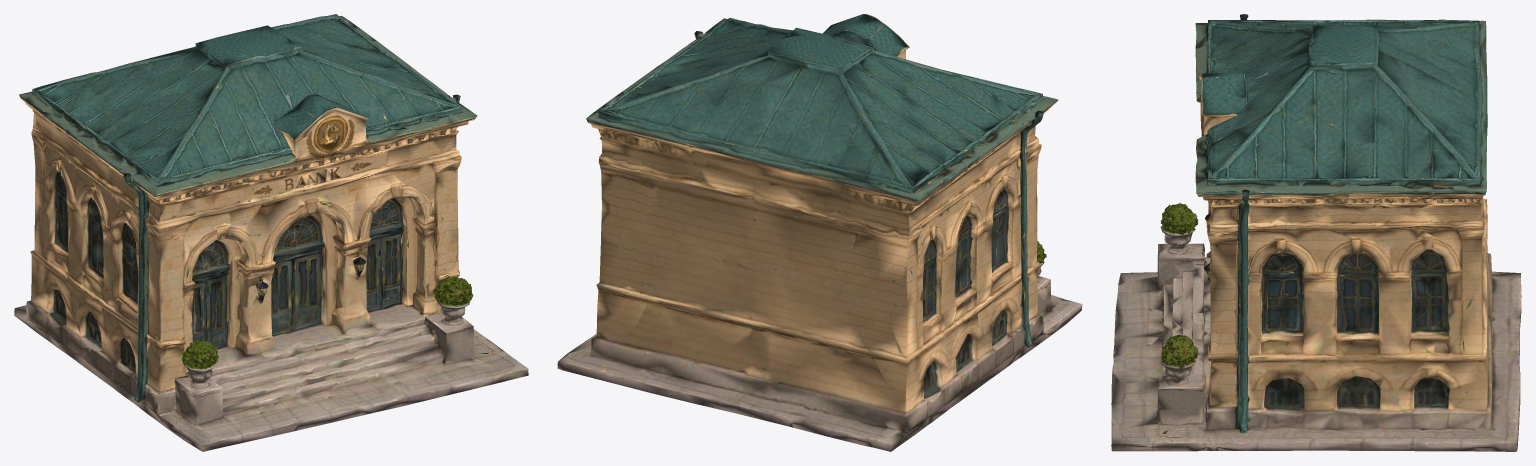
The model's file is m_tb_bank.glb.
3 views of the same model, side by side, from view 1: azimuth 30°, elevation 25°; view 2: azimuth 150°, elevation 25°; view 3: azimuth 270°, elevation 25° (orthographic). The views are drawn at different scales.
Size of the model in its own units: 0.9995 by 0.8227 by 0.9553.
1 material, 1 textured.
